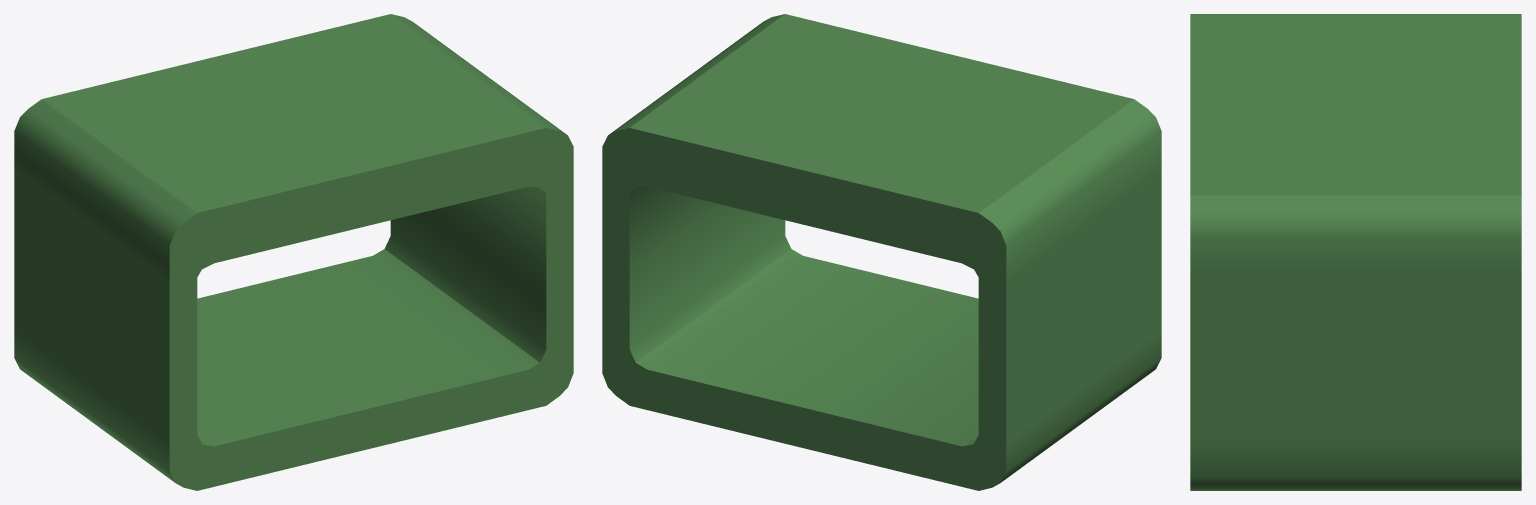
The model's file is Prop_SC_Table.FBX.
3 views of the same model, side by side, from view 1: azimuth 30°, elevation 25°; view 2: azimuth 150°, elevation 25°; view 3: azimuth 270°, elevation 25° (orthographic). The views are drawn at different scales.
Parts seen in each view (by area): view 1: Prop_SC_Table001; view 2: Prop_SC_Table001; view 3: Prop_SC_Table001.
Boxes of the visible parts, left/top/right/bottom form: Prop_SC_Table001: left=14, top=14, right=573, bottom=490; Prop_SC_Table001: left=602, top=14, right=1161, bottom=490; Prop_SC_Table001: left=1190, top=14, right=1521, bottom=490.
Bounding box in the file's own units: 37.26 × 24.49 × 24.86.
